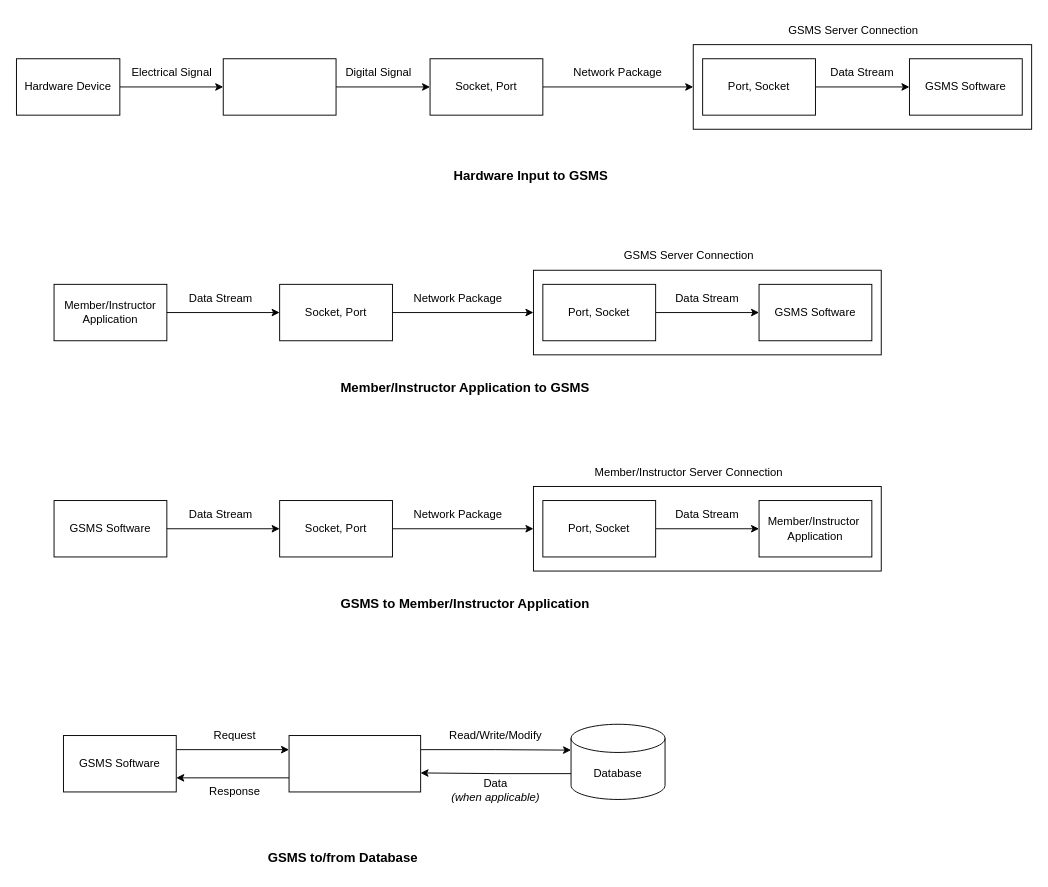
This 1048x887 diagram has some shape labels left out. The centre of each missing label's shape, as x and y in pixels:
"Database Management System" goes at (x=354, y=763).
"Device Driver" goes at (x=279, y=86).
